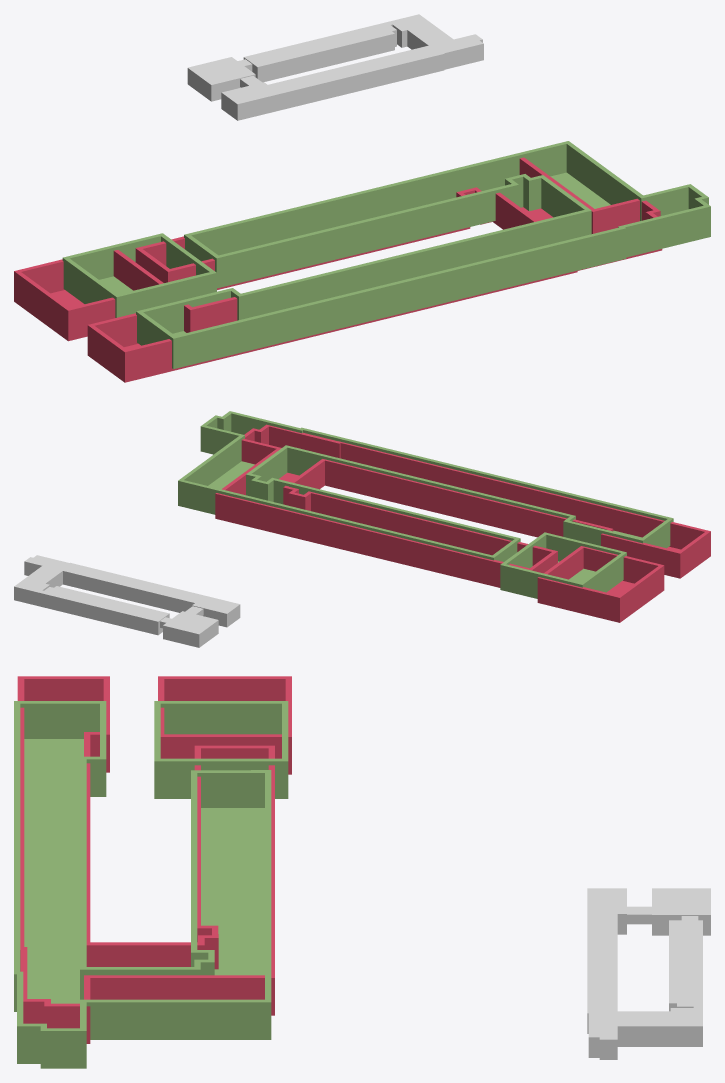
The model's file is aaaaa.glb.
The picture shows the model from 3 angles, top to bottom: view 1: azimuth 30°, elevation 25°; view 2: azimuth 150°, elevation 25°; view 3: azimuth 270°, elevation 25°; orthographic projection. The views are drawn at different scales.
Visible parts, largest first — view 1: F2, F1, Cube; view 2: F1, F2, Cube; view 3: F2, F1, Cube.
Part boxes in pixels (x1,y1,x2,y2): F2: [62, 141, 710, 368]; F1: [14, 157, 662, 382]; Cube: [187, 14, 483, 120]; F1: [215, 424, 710, 622]; F2: [178, 411, 673, 598]; Cube: [14, 555, 240, 647]; F2: [14, 701, 288, 1068]; F1: [17, 676, 291, 1043]; Cube: [587, 888, 710, 1059].
Bounding box in the file's own units: 11.24 × 0.6087 × 9.24.
